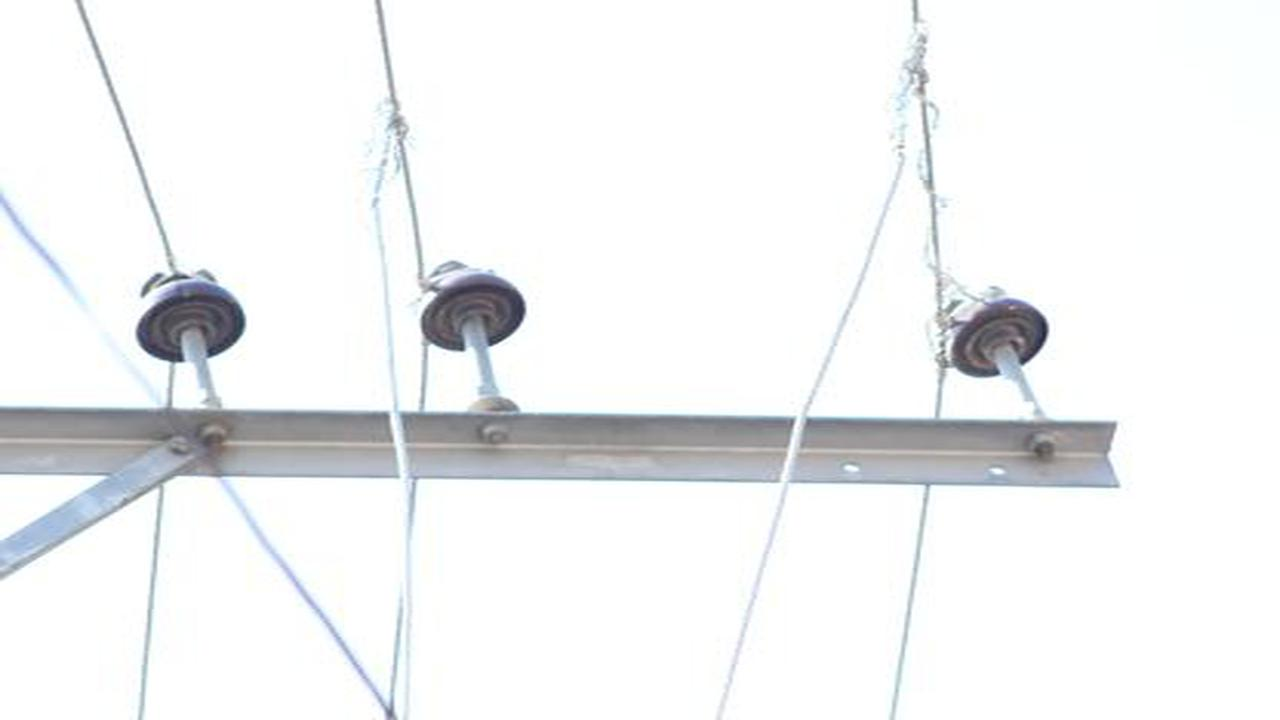insulator_pin: (939, 284, 1058, 388), (131, 266, 252, 363), (414, 252, 529, 351)
